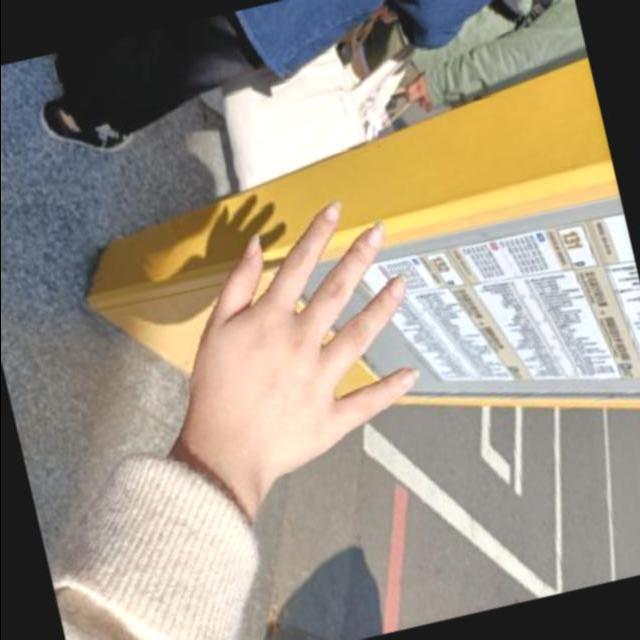hand: (130, 171, 464, 543)
